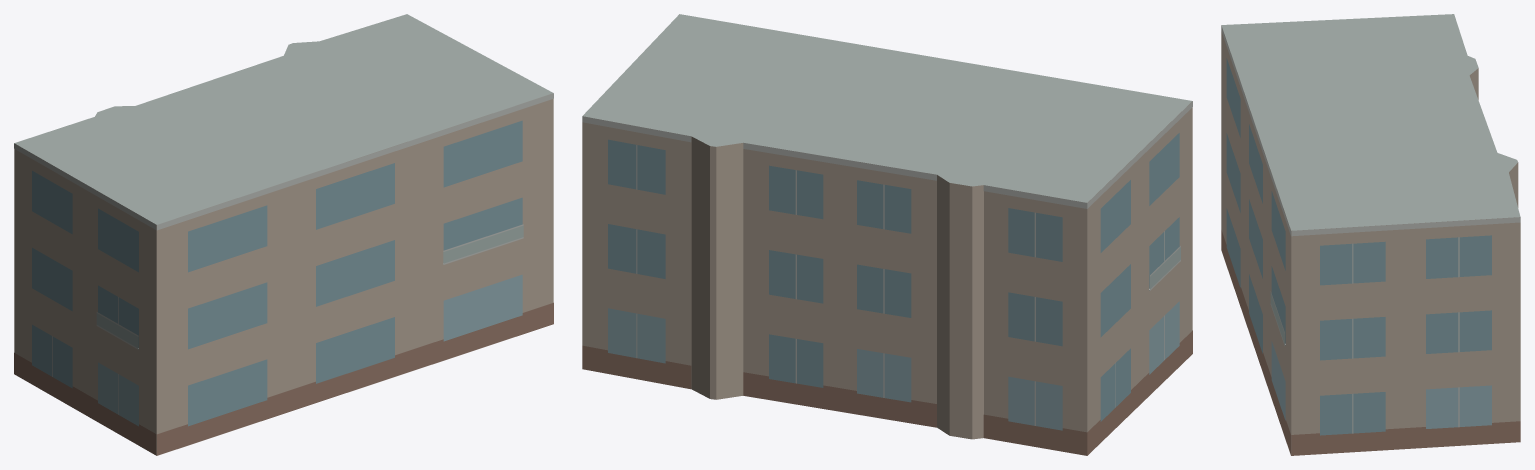
File: survey-upis-32996348.glb
The picture shows the model from 3 angles, left to right: view 1: azimuth 30°, elevation 25°; view 2: azimuth 150°, elevation 25°; view 3: azimuth 270°, elevation 25°; orthographic projection. The views are drawn at different scales.
Visible parts, largest first — view 1: survey-upis-32996348.tmp; view 2: survey-upis-32996348.tmp; view 3: survey-upis-32996348.tmp.
Part boxes in pixels (left/top/right/bottom): survey-upis-32996348.tmp: left=14, top=14, right=553, bottom=455; survey-upis-32996348.tmp: left=582, top=14, right=1192, bottom=455; survey-upis-32996348.tmp: left=1221, top=14, right=1520, bottom=455.
Size of the model in its own units: 20.88 by 10.1 by 12.18.
